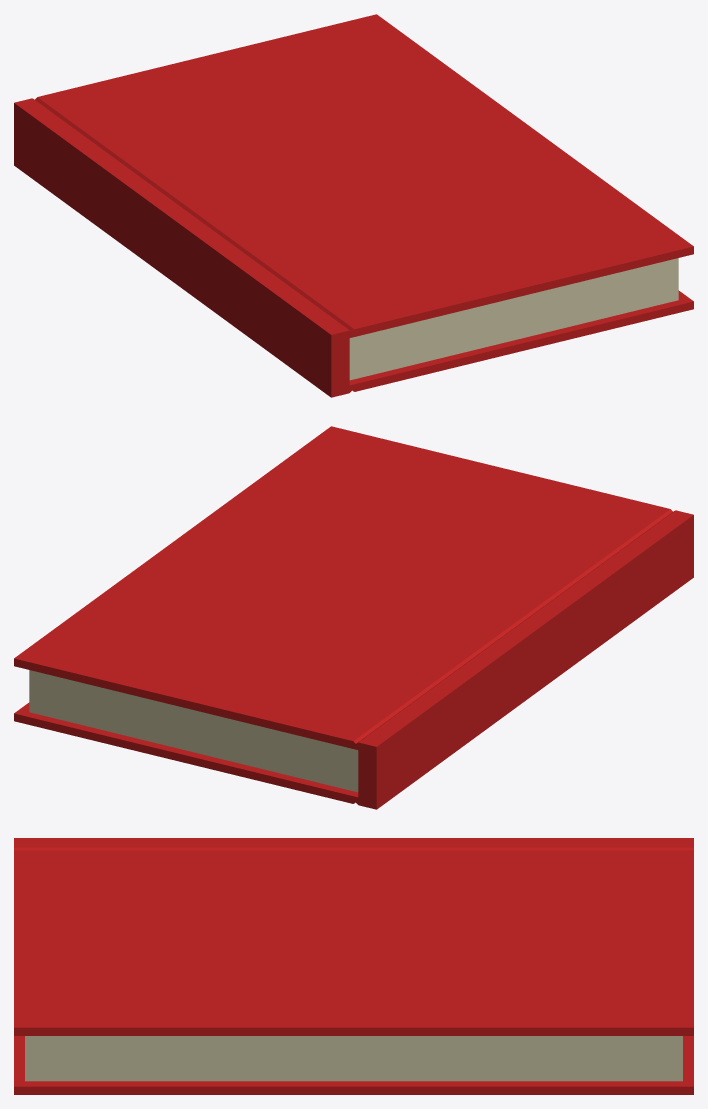
File: Book_Hunting_mat.fbx
The picture shows the model from 3 angles, top to bottom: view 1: azimuth 30°, elevation 25°; view 2: azimuth 150°, elevation 25°; view 3: azimuth 270°, elevation 25°; orthographic projection. The views are drawn at different scales.
Parts seen in each view (by area): view 1: Book_Hunting_mat; view 2: Book_Hunting_mat; view 3: Book_Hunting_mat.
Part boxes in pixels (x1,y1,x2,y2): Book_Hunting_mat: (14,14,693,397); Book_Hunting_mat: (14,426,693,809); Book_Hunting_mat: (14,838,693,1094).
Bounding box in the file's own units: 11.52 × 1.91 × 17.45.
